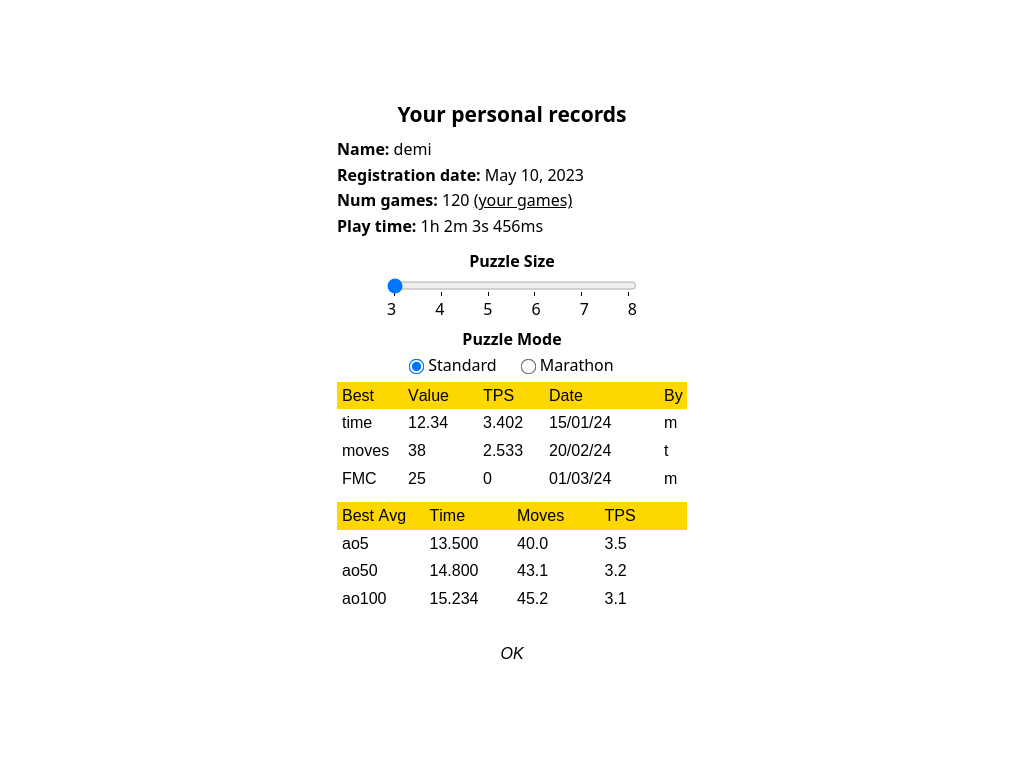
Test: UserAccount › closes the games table on an outside click without closing the account panel itself
Expected: the element with class "user-account" is shown, [317,74,707,695]
Click the text with class "last-games".
click(523, 200)  # box [474,189,572,211]
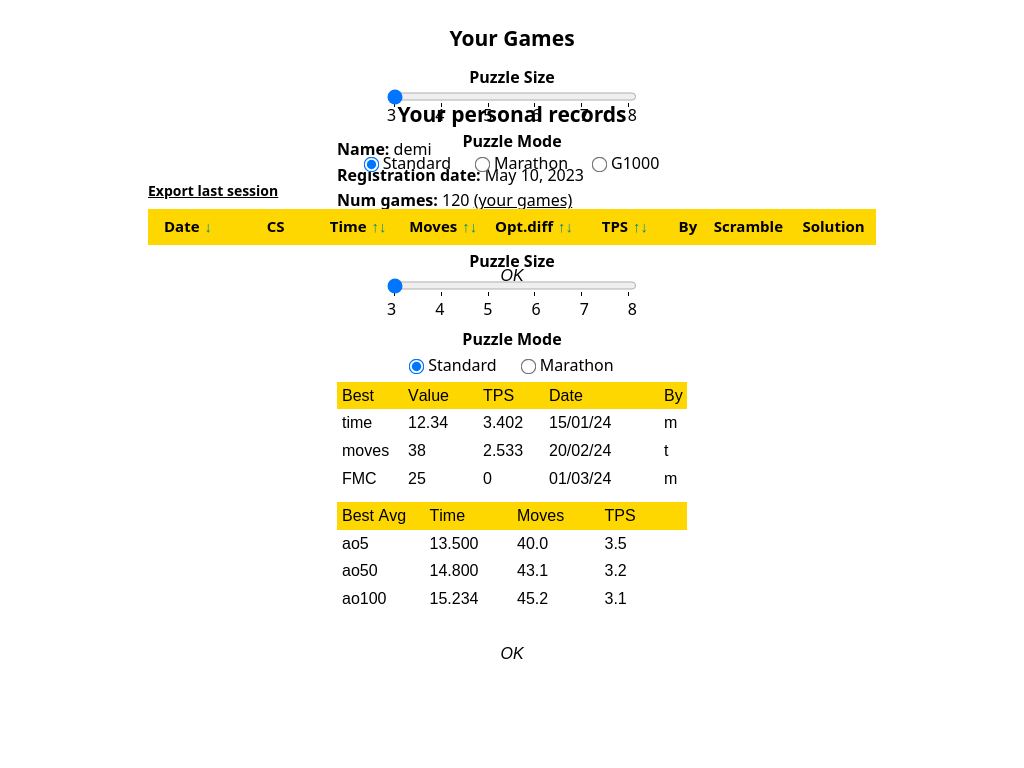
Expected: the element with class "games-table" is shown, [148,24,876,292]
Click the element that starts with "Your Games".
click(61, 384)  # box [0,0,1023,767]
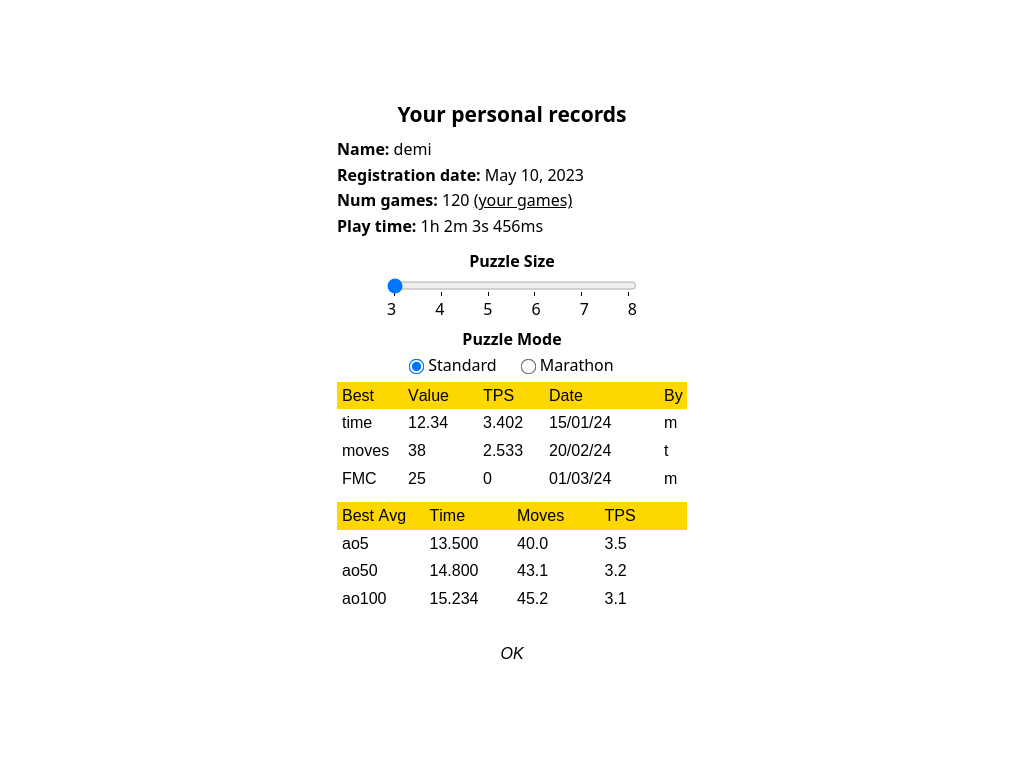
Expected: the element with class "games-table" is gone
